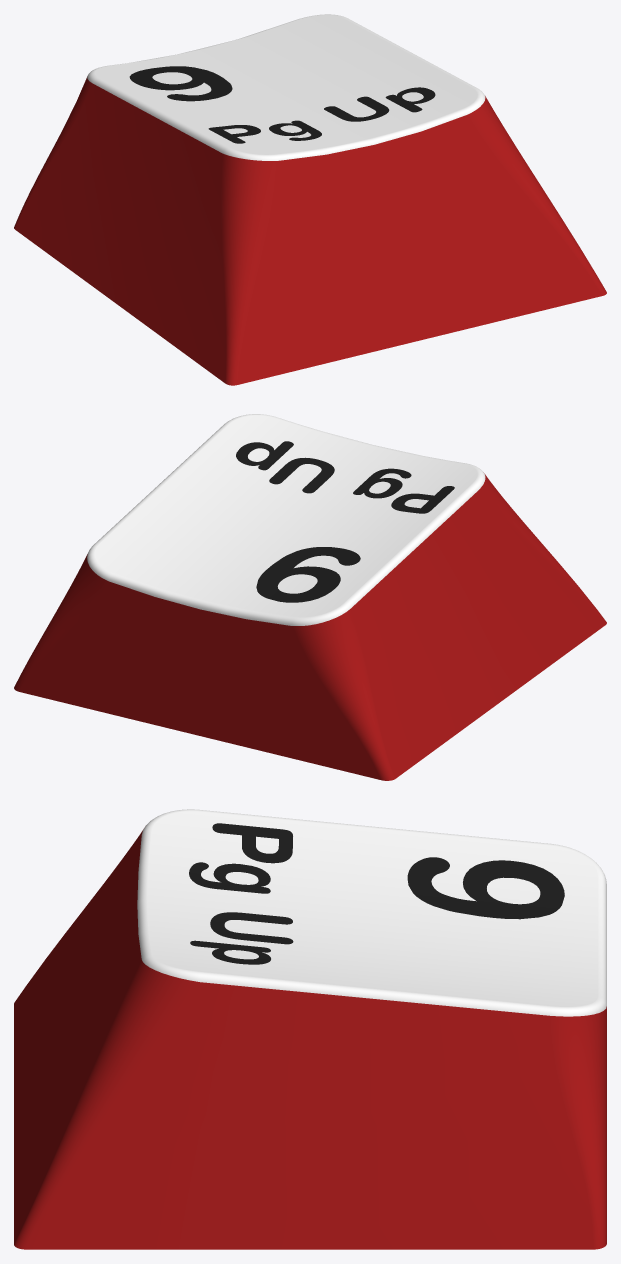
The model's file is NUM 9 PgUp.fbx.
3 views of the same model, one above another, from view 1: azimuth 30°, elevation 25°; view 2: azimuth 150°, elevation 25°; view 3: azimuth 270°, elevation 25° (orthographic). The views are drawn at different scales.
Visible parts, largest first — view 1: Body1; view 2: Body1; view 3: Body1.
Part boxes in pixels (<box>): Body1: <box>14,14,606,385</box>; Body1: <box>14,414,606,780</box>; Body1: <box>14,809,606,1249</box>.
Bounding box in the file's own units: 18 × 7.85 × 18.
